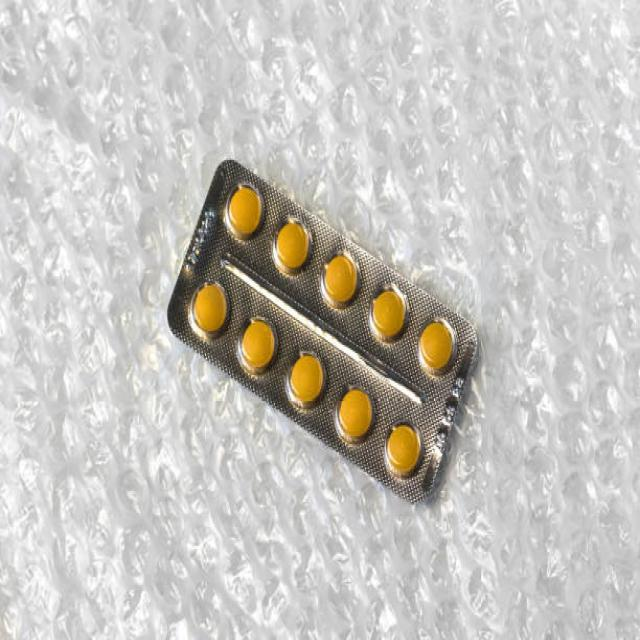Pill: (332, 372, 380, 455), (285, 342, 331, 421), (271, 207, 315, 282), (382, 412, 426, 486), (238, 308, 280, 385), (414, 309, 458, 381), (193, 269, 233, 341), (225, 178, 268, 244), (321, 237, 358, 312), (368, 279, 408, 348)
